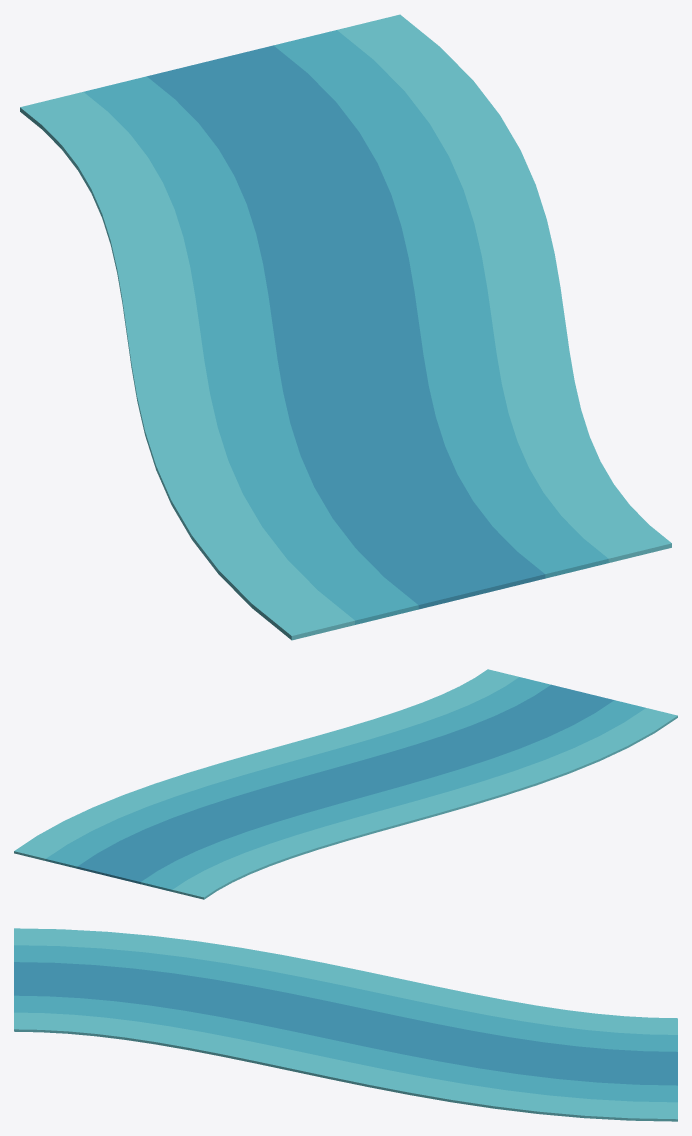
3 renders of one model, top to bottom at view 1: azimuth 30°, elevation 25°; view 2: azimuth 150°, elevation 25°; view 3: azimuth 270°, elevation 25°, orthographic. The views are drawn at different scales.
Visible parts, largest first — view 1: S形河流_六层水色.001; view 2: S形河流_六层水色.001; view 3: S形河流_六层水色.001.
Part boxes in pixels (bbox=[...]): S形河流_六层水色.001: bbox=[20, 14, 671, 640]; S形河流_六层水色.001: bbox=[14, 669, 677, 899]; S形河流_六层水色.001: bbox=[14, 928, 677, 1121].
Size of the model in its own units: 1.36 by 0.008 by 2.
